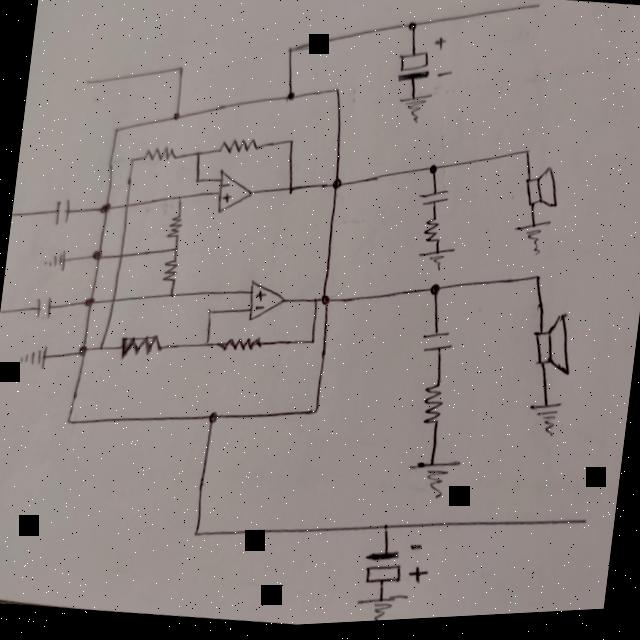capacitor: (355, 534, 432, 597), (390, 31, 456, 89), (416, 329, 455, 361), (413, 186, 452, 217), (29, 291, 60, 320), (48, 195, 74, 224)
ground: (402, 456, 462, 508), (350, 587, 410, 626), (522, 398, 562, 446), (392, 90, 435, 134), (510, 219, 552, 261), (412, 243, 458, 278), (14, 337, 51, 371), (34, 241, 68, 275)
junction: (420, 159, 442, 185), (200, 408, 221, 427), (402, 20, 419, 43), (280, 89, 300, 108), (423, 283, 443, 302), (72, 340, 90, 359), (306, 402, 322, 423), (79, 292, 97, 310), (95, 199, 112, 217), (168, 107, 185, 124), (88, 246, 104, 264), (376, 521, 392, 538), (327, 178, 343, 194), (316, 294, 332, 310), (93, 340, 108, 355), (530, 275, 544, 291), (188, 526, 202, 541), (284, 45, 297, 60), (519, 149, 532, 164), (304, 335, 317, 349), (172, 63, 185, 76), (284, 184, 296, 198), (202, 306, 214, 319), (172, 194, 184, 207), (200, 338, 211, 351), (62, 415, 74, 426), (192, 175, 202, 188), (284, 137, 294, 149), (165, 289, 175, 300), (110, 124, 120, 135), (330, 87, 340, 98), (106, 296, 116, 307), (115, 250, 125, 261), (127, 155, 136, 167), (192, 149, 202, 159), (121, 201, 131, 211), (170, 244, 178, 255), (310, 297, 318, 308)
resistor: (115, 328, 164, 362), (418, 382, 447, 433), (214, 330, 264, 357), (214, 132, 262, 158), (136, 142, 182, 168), (416, 214, 447, 251), (162, 208, 185, 243), (158, 255, 182, 286)
terminal: (575, 519, 590, 535), (530, 3, 544, 14), (10, 208, 21, 218), (82, 76, 92, 87), (0, 306, 7, 315)
